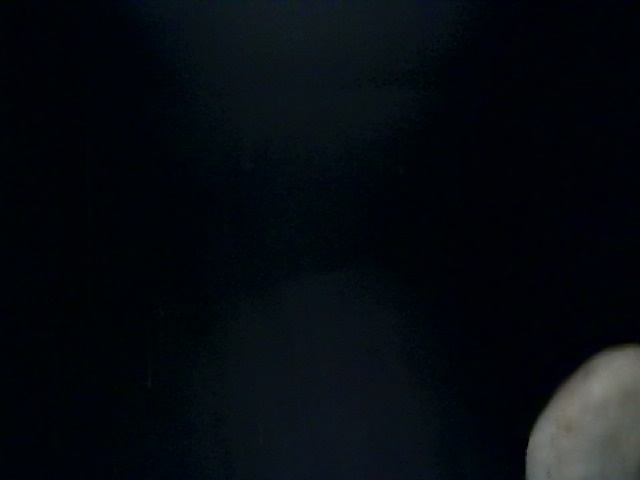QTLJ: (405, 76, 610, 345)
